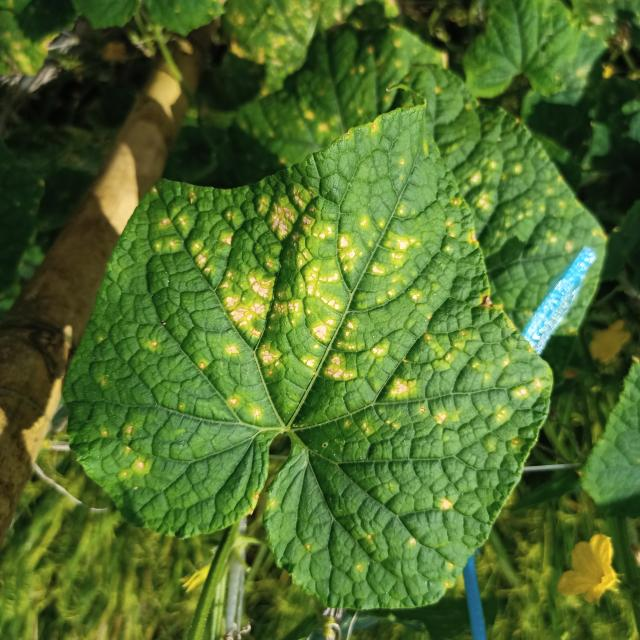disease_cucumber: (101, 152, 556, 568)
